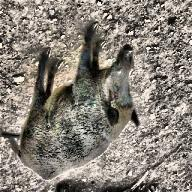boar: (12, 22, 140, 182)
